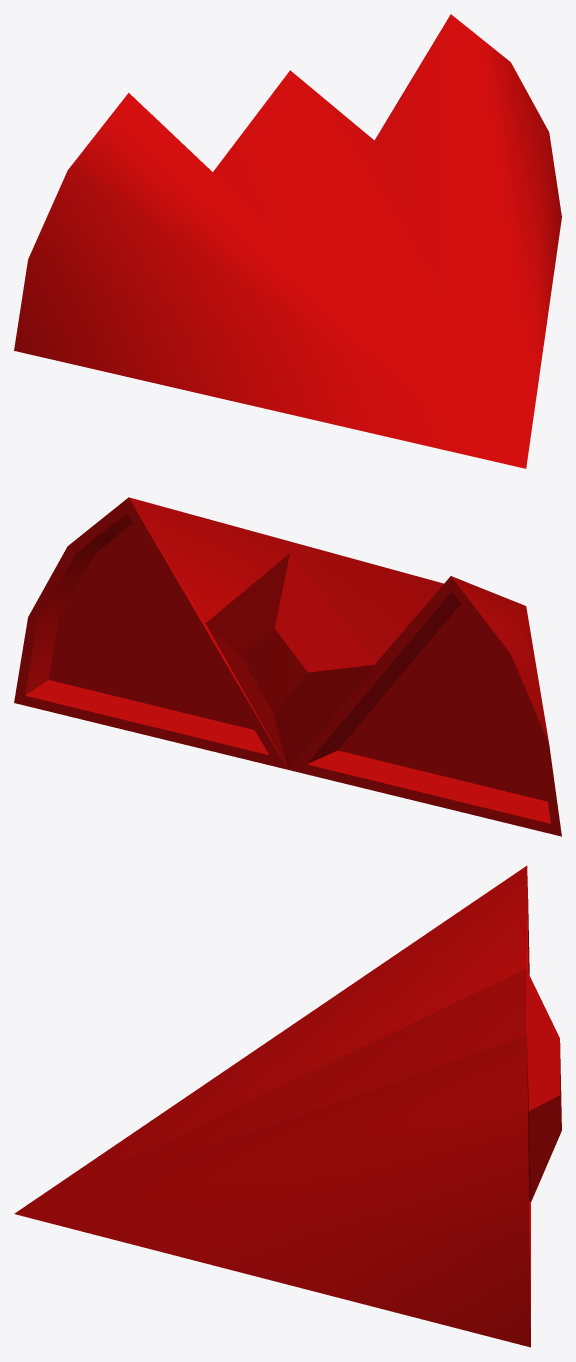
The model's file is Ship.fbx.
3 views of the same model, one above another, from view 1: azimuth 30°, elevation 25°; view 2: azimuth 150°, elevation 25°; view 3: azimuth 270°, elevation 25° (orthographic). The views are drawn at different scales.
Visible parts, largest first — view 1: Ship; view 2: Ship; view 3: Ship.
Part boxes in pixels (left/top/right/bottom): Ship: left=14, top=14, right=561, bottom=468; Ship: left=14, top=497, right=561, bottom=836; Ship: left=14, top=865, right=561, bottom=1347.
Size of the model in its own units: 17.65 by 7.47 by 14.08.
